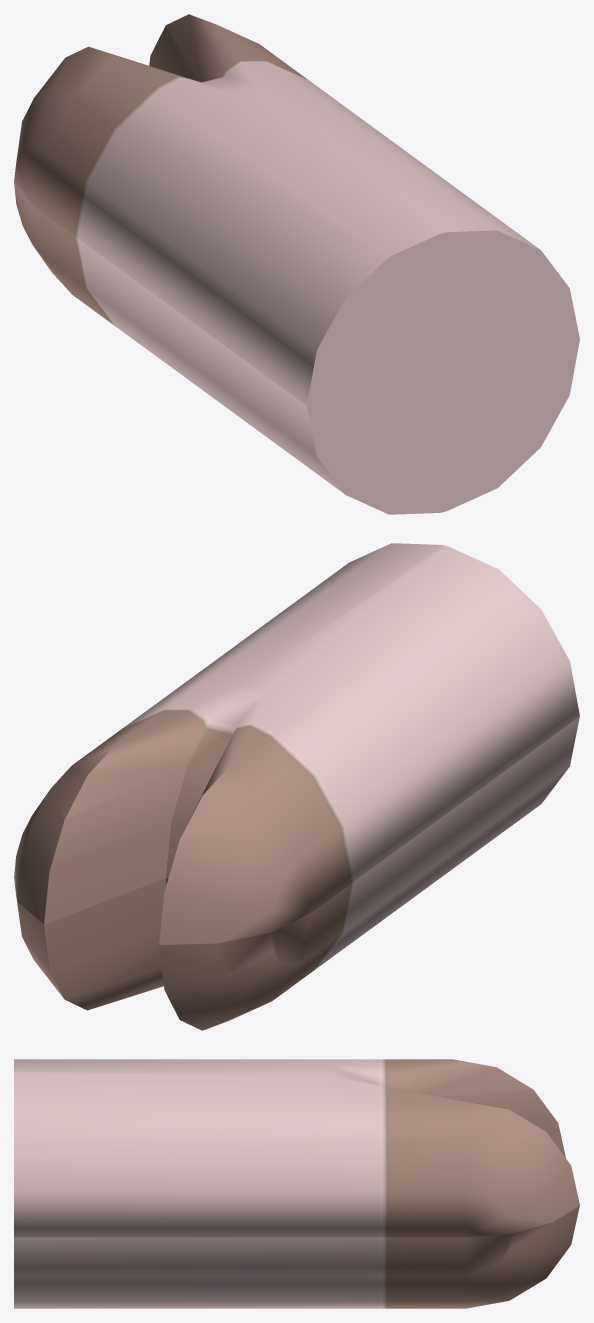
File: foot.glb
3 views of the same model, one above another, from view 1: azimuth 30°, elevation 25°; view 2: azimuth 150°, elevation 25°; view 3: azimuth 270°, elevation 25° (orthographic). The views are drawn at different scales.
Visible parts, largest first — view 1: 立方体_1; view 2: 立方体_1; view 3: 立方体_1.
Part boxes in pixels (left/top/right/bottom): 立方体_1: left=14, top=14, right=579, bottom=514; 立方体_1: left=14, top=543, right=579, bottom=1030; 立方体_1: left=14, top=1059, right=579, bottom=1308.
Bounding box in the file's own units: 0.2912 × 0.2842 × 0.6511.
1 material, 1 textured.
